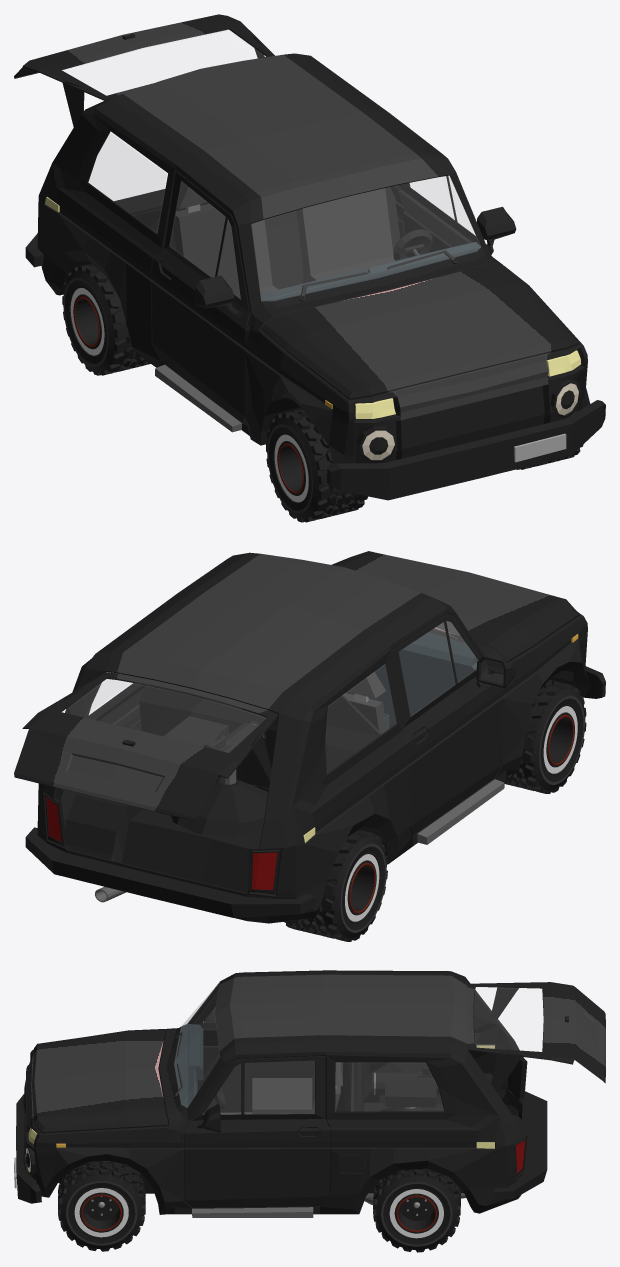
Rendered from car4.glb.
The picture shows the model from 3 angles, top to bottom: view 1: azimuth 30°, elevation 25°; view 2: azimuth 150°, elevation 25°; view 3: azimuth 270°, elevation 25°; orthographic projection. The views are drawn at different scales.
Parts seen in each view (by area): view 1: Body.009, hood.003, WindowFront.003, Seats.003, Door.006, Bumper.007, Wheel.016, Wheel.014, WindowBack.003, Trunk.003, WondowRight.003, WindowDoor.007 (+12 smaller); view 2: Body.009, Trunk.003, Floor.011, Door.006, hood.003, WindowBack.003, Bumper.008, Wheel.014, Wheel.016, Floor.Gun, Panel.006, WondowRight.003 (+7 smaller); view 3: Body.009, Door.007, hood.003, Trunk.003, Wheel.016, Wheel.014, WondowRight.003, WindowDoor.008, WindowBack.003, Door.006, WindowFront.003, Bumper.008 (+8 smaller).
Boxes of the visible parts, left/top/right/bottom form: Body.009: left=37, top=53, right=590, bottom=464; hood.003: left=261, top=264, right=579, bottom=399; WindowFront.003: left=252, top=176, right=480, bottom=300; Seats.003: left=173, top=181, right=394, bottom=298; Door.006: left=152, top=170, right=249, bottom=421; Bumper.007: left=326, top=400, right=605, bottom=500; Wheel.016: left=266, top=408, right=583, bottom=522; Wheel.014: left=62, top=263, right=150, bottom=375; WindowBack.003: left=63, top=30, right=265, bottom=94; Trunk.003: left=14, top=14, right=274, bottom=126; WondowRight.003: left=88, top=132, right=167, bottom=232; WindowDoor.007: left=170, top=181, right=239, bottom=297; Body.009: left=37, top=552, right=590, bottom=922; Trunk.003: left=14, top=672, right=278, bottom=821; Floor.011: left=122, top=685, right=382, bottom=892; Door.006: left=390, top=613, right=501, bottom=835; hood.003: left=331, top=551, right=579, bottom=662; WindowBack.003: left=64, top=679, right=266, bottom=752; Bumper.008: left=25, top=827, right=315, bottom=917; Wheel.014: left=284, top=830, right=387, bottom=941; Wheel.016: left=502, top=680, right=586, bottom=793; Floor.Gun: left=163, top=716, right=267, bottom=836; Panel.006: left=345, top=632, right=477, bottom=728; WondowRight.003: left=326, top=665, right=396, bottom=772; Body.009: left=23, top=970, right=527, bottom=1214; Door.007: left=184, top=1056, right=330, bottom=1207; hood.003: left=32, top=1029, right=167, bottom=1133; Trunk.003: left=467, top=982, right=605, bottom=1092; Wheel.016: left=58, top=1161, right=145, bottom=1251; Wheel.014: left=373, top=1169, right=460, bottom=1252; WondowRight.003: left=335, top=1063, right=443, bottom=1110; WindowDoor.008: left=205, top=1061, right=314, bottom=1113; WindowBack.003: left=474, top=987, right=542, bottom=1051; Door.006: left=195, top=995, right=314, bottom=1112; WindowFront.003: left=174, top=982, right=219, bottom=1106; Bumper.008: left=494, top=1089, right=547, bottom=1200.
Bounding box in the file's own units: 7.44 × 5.83 × 15.69.
Materials: 4 (1 with a texture image).
